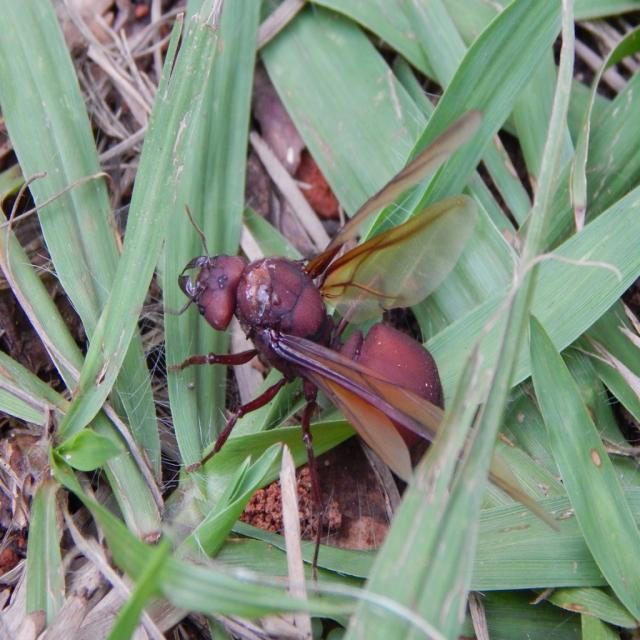Alive-Female-Alate: (132, 106, 561, 596)
